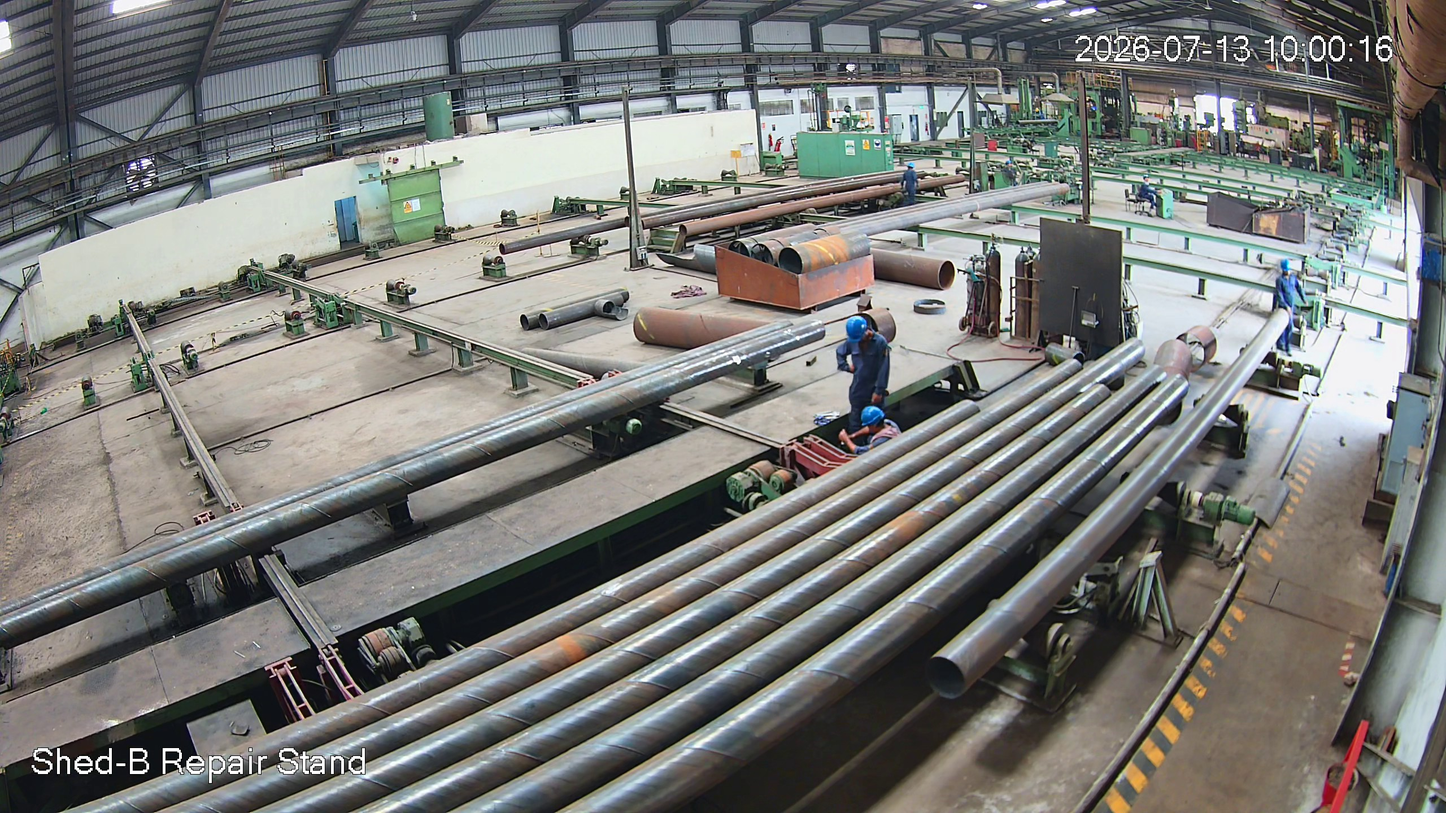Helmet: (843, 316, 878, 351), (855, 403, 889, 438), (1280, 258, 1296, 276)
Person: (833, 316, 895, 430), (834, 407, 909, 457), (1277, 260, 1301, 351)
